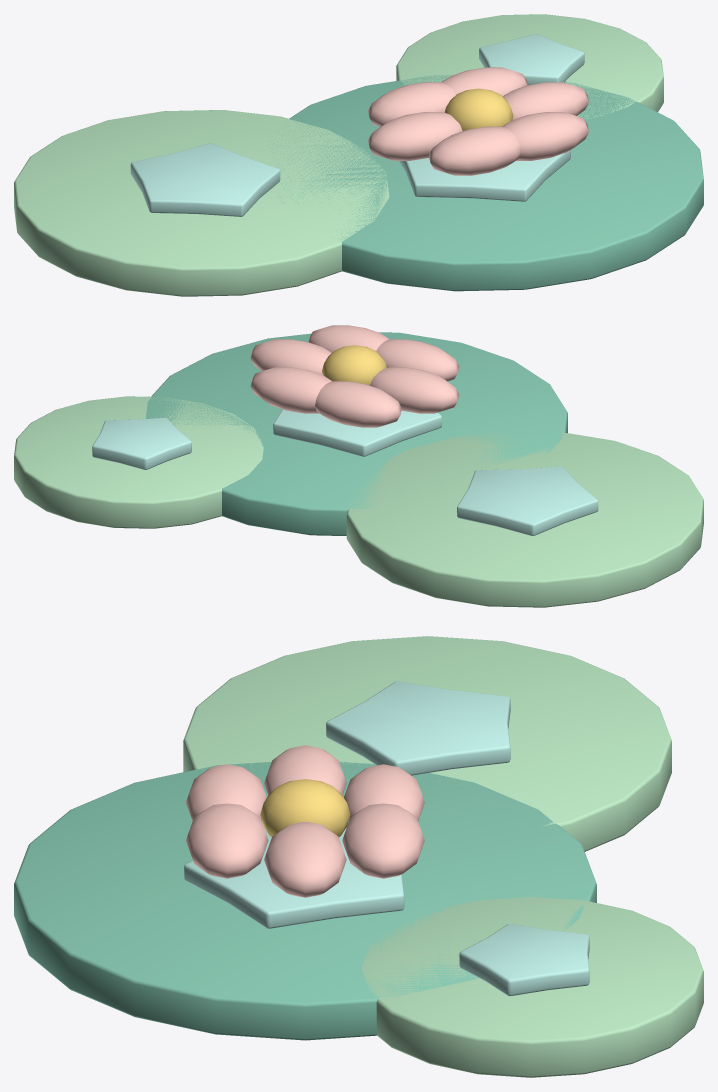
File: fairy_lily_cluster.glb
The picture shows the model from 3 angles, top to bottom: view 1: azimuth 30°, elevation 25°; view 2: azimuth 150°, elevation 25°; view 3: azimuth 270°, elevation 25°; orthographic projection. The views are drawn at different scales.
Visible parts, largest first — view 1: Pad_0, Pad_1, Pad_2, PadInset_0, PadInset_1, PadInset_2, Petal_4, Petal_3, Petal_5, Petal_2, Petal_0, FlowerHeart (+1 smaller); view 2: Pad_0, Pad_1, Pad_2, PadInset_0, PadInset_1, PadInset_2, Petal_2, Petal_3, Petal_1, Petal_4, Petal_0, FlowerHeart (+1 smaller); view 3: Pad_1, Pad_0, Pad_2, PadInset_0, PadInset_1, PadInset_2, Petal_0, Petal_5, Petal_1, FlowerHeart, Petal_2, Petal_4 (+1 smaller).
Part boxes in pixels (x1=…): Pad_0: x1=14, y1=110, x2=389, y2=296; Pad_1: x1=260, y1=75, x2=703, y2=291; Pad_2: x1=396, y1=14, x2=663, y2=119; PadInset_0: x1=130, y1=143, x2=280, y2=216; PadInset_1: x1=399, y1=150, x2=570, y2=201; PadInset_2: x1=479, y1=34, x2=584, y2=85; Petal_4: x1=429, y1=126, x2=520, y2=175; Petal_3: x1=368, y1=112, x2=462, y2=160; Petal_5: x1=502, y1=112, x2=588, y2=160; Petal_2: x1=368, y1=82, x2=455, y2=126; Petal_0: x1=503, y1=82, x2=588, y2=119; FlowerHeart: x1=444, y1=88, x2=513, y2=130; Pad_0: x1=346, y1=432, x2=703, y2=607; Pad_1: x1=145, y1=332, x2=567, y2=535; Pad_2: x1=14, y1=396, x2=263, y2=528; PadInset_0: x1=457, y1=466, x2=598, y2=535; PadInset_1: x1=273, y1=409, x2=441, y2=456; PadInset_2: x1=92, y1=417, x2=191, y2=469; Petal_2: x1=315, y1=381, x2=401, y2=427; Petal_3: x1=370, y1=367, x2=459, y2=413; Petal_1: x1=250, y1=367, x2=331, y2=413; Petal_4: x1=376, y1=339, x2=459, y2=381; Petal_0: x1=250, y1=339, x2=331, y2=374; FlowerHeart: x1=322, y1=345, x2=386, y2=385; Pad_1: x1=14, y1=761, x2=596, y2=1040; Pad_0: x1=183, y1=636, x2=671, y2=851; Pad_2: x1=361, y1=897, x2=703, y2=1077; PadInset_0: x1=326, y1=681, x2=510, y2=775; PadInset_1: x1=184, y1=821, x2=404, y2=928; PadInset_2: x1=459, y1=924, x2=589, y2=996; Petal_0: x1=264, y1=822, x2=346, y2=897; Petal_5: x1=186, y1=803, x2=268, y2=878; Petal_1: x1=342, y1=803, x2=424, y2=878; FlowerHeart: x1=260, y1=779, x2=350, y2=837; Petal_2: x1=344, y1=764, x2=424, y2=820; Petal_4: x1=186, y1=764, x2=266, y2=821.
Bounding box in the file's own units: 5.12 × 0.79 × 3.67.
